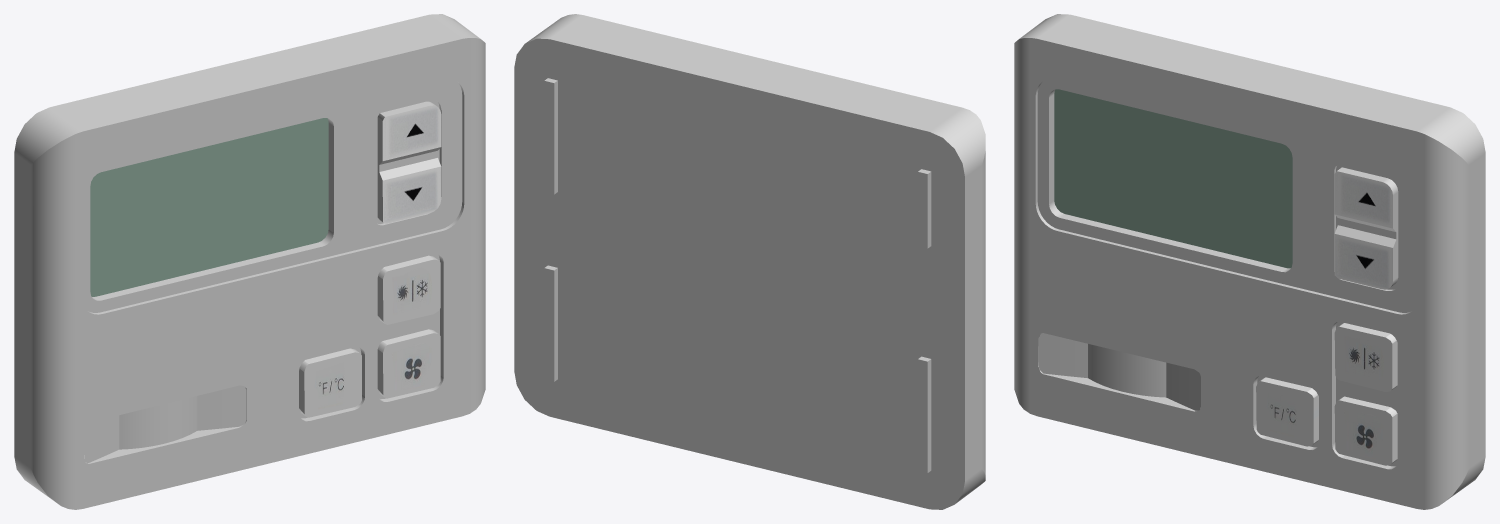
Rendered from HeatingCooling.dae.
3 views of the same model, side by side, from view 1: azimuth 30°, elevation 25°; view 2: azimuth 150°, elevation 25°; view 3: azimuth 330°, elevation 25° (orthographic).
Visible parts, largest first — view 1: ID33 (×9); view 2: ID33; view 3: ID33 (×9).
Boxes of the visible parts, x1,y1,x2,y2 form: ID33 (×9): (14, 14, 485, 509); ID33: (514, 14, 985, 509); ID33 (×9): (1014, 14, 1485, 509).
Bounding box in the file's own units: 5 × 0.731 × 4.
7 materials, 5 textured.
